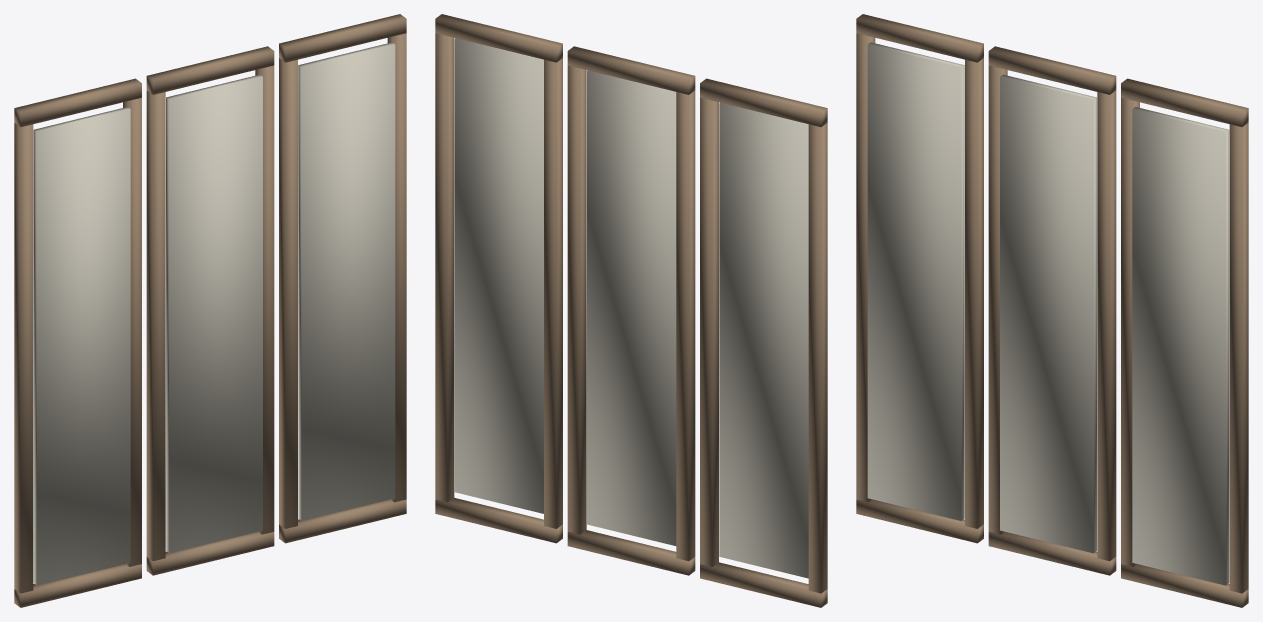
File: funeral_folding_screen__compact.glb
The picture shows the model from 3 angles, left to right: view 1: azimuth 30°, elevation 25°; view 2: azimuth 150°, elevation 25°; view 3: azimuth 330°, elevation 25°; orthographic projection.
Visible parts, largest first — view 1: world; view 2: world; view 3: world.
Boxes of the visible parts, x1,y1,x2,y2 form: world: (14, 14, 406, 607); world: (435, 14, 827, 607); world: (856, 14, 1248, 607).
Size of the model in its own units: 1.18 by 1.44 by 0.0473.
